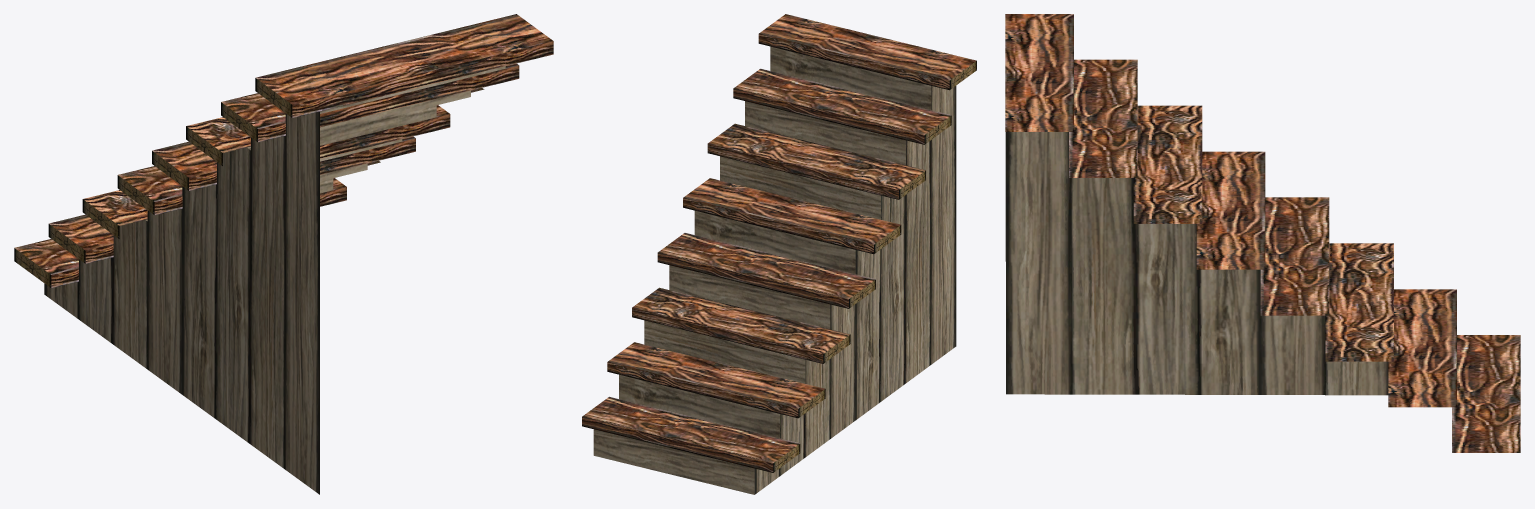
File: LAKETOWN_PUB_PS_PUB_STAIRS17.fbx
The picture shows the model from 3 angles, left to right: view 1: azimuth 30°, elevation 25°; view 2: azimuth 150°, elevation 25°; view 3: azimuth 270°, elevation 25°; orthographic projection. The views are drawn at different scales.
Visible parts, largest first — view 1: LAKETOWN_PUB_PS_PUB_STAIRS17; view 2: LAKETOWN_PUB_PS_PUB_STAIRS17; view 3: LAKETOWN_PUB_PS_PUB_STAIRS17.
Boxes of the visible parts, left/top/right/bottom form: LAKETOWN_PUB_PS_PUB_STAIRS17: left=14, top=14, right=553, bottom=494; LAKETOWN_PUB_PS_PUB_STAIRS17: left=582, top=14, right=976, bottom=494; LAKETOWN_PUB_PS_PUB_STAIRS17: left=1005, top=14, right=1520, bottom=452.
Size of the model in its own units: 14662 by 21357 by 27031.
3 materials, 3 textured.
